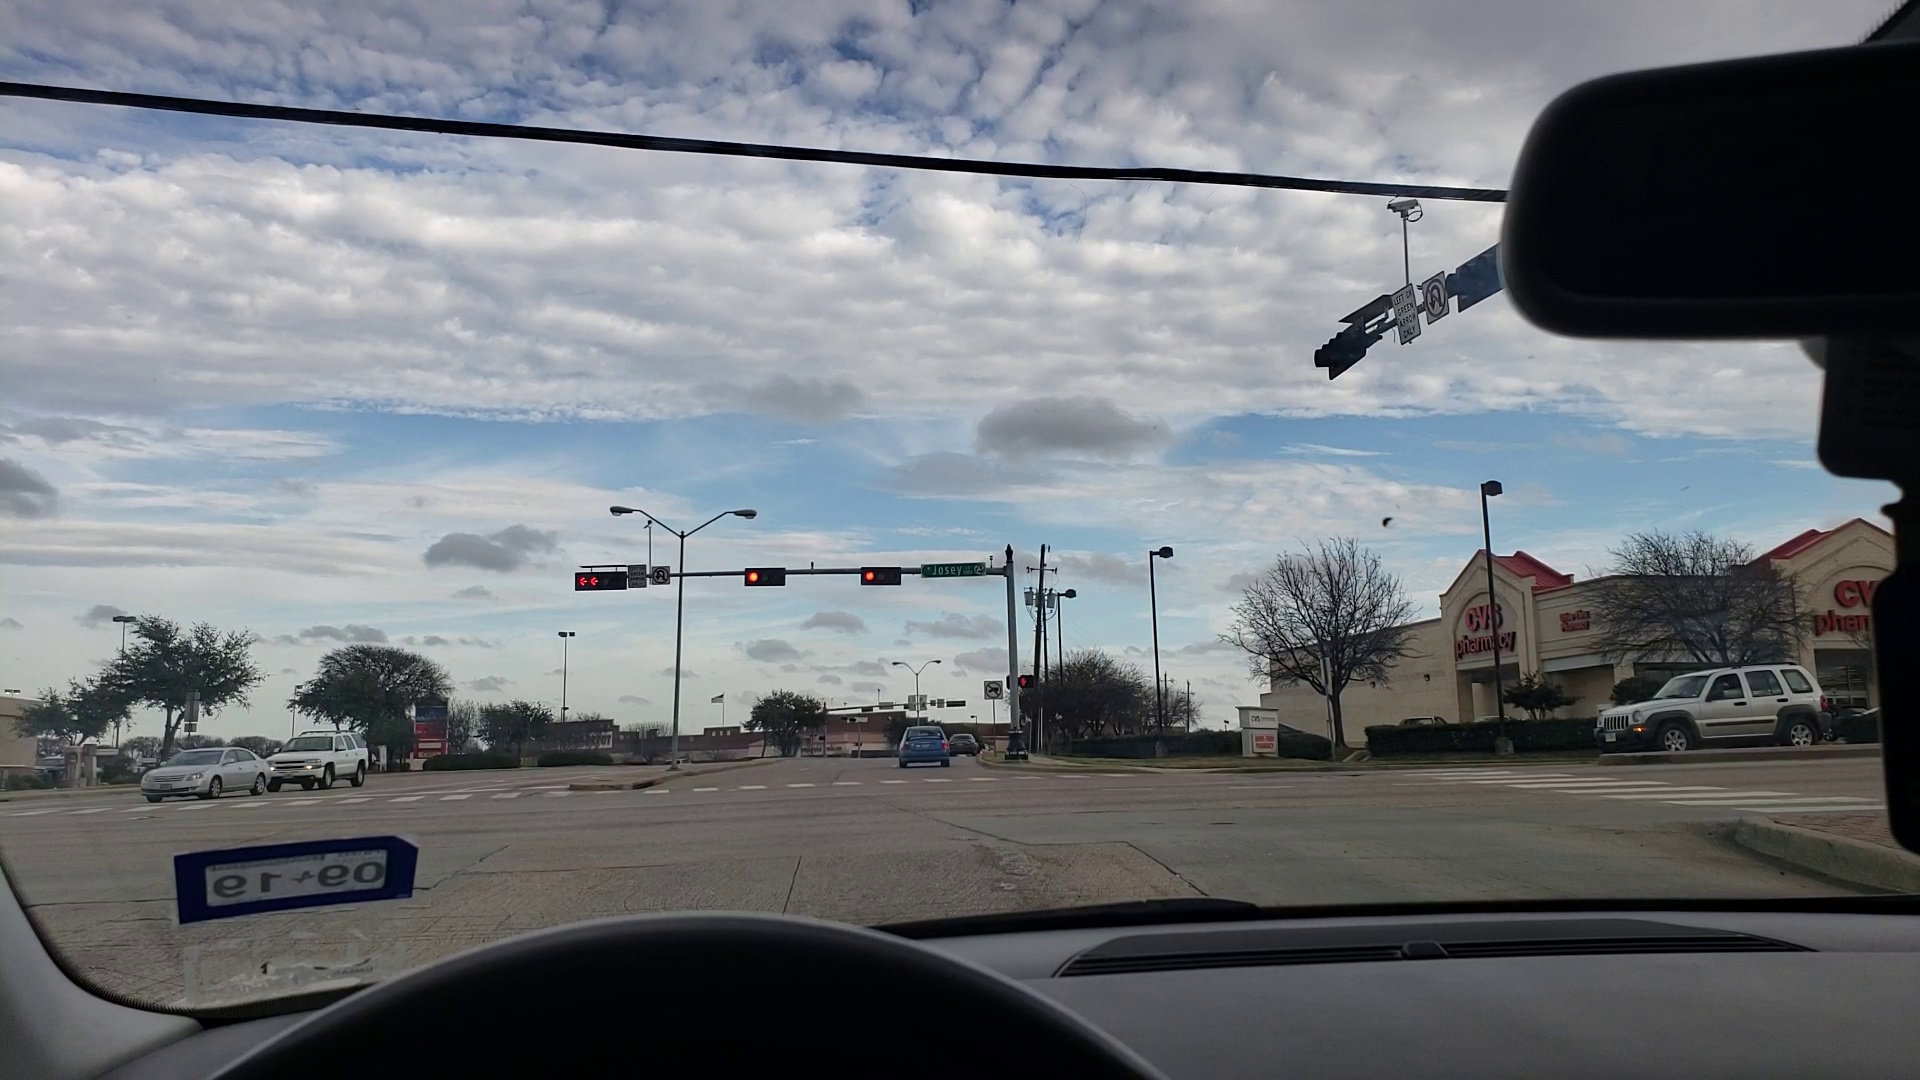car: (1602, 662, 1836, 748), (132, 744, 270, 800), (266, 732, 373, 786), (893, 720, 949, 764), (948, 727, 981, 760)
traffic light: (574, 570, 621, 589), (857, 568, 902, 588), (742, 563, 789, 582)
